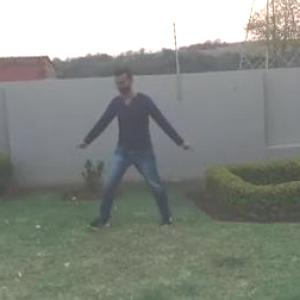land: (74, 50, 200, 235)
